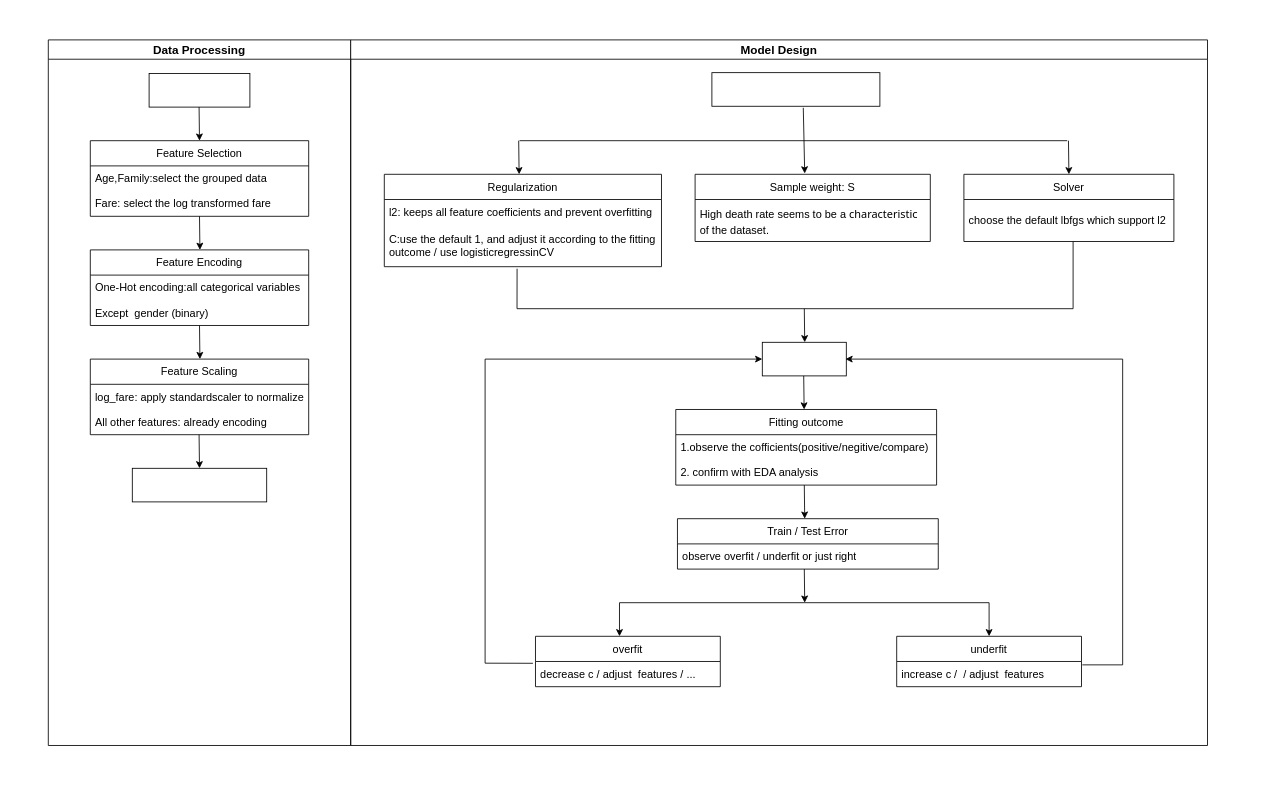
This 1273x795 diagram has some shape labels left out. The centre of each missing label's shape, as x and y in pixels:
EDA-analysis.csv: the point at 199,90
Logistic Regression: Binary Case: the point at 795,89
Model fitting: the point at 803,358
Train / Test Split (70 / 30): the point at 199,484
